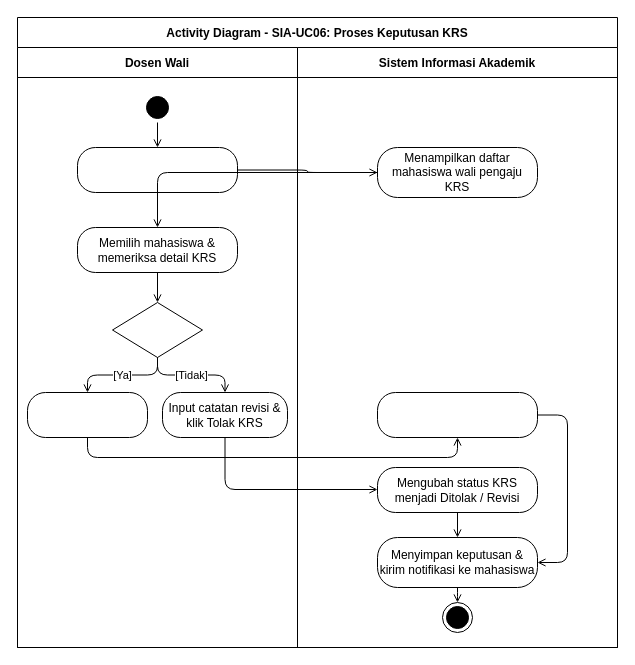
Image size: 635x665. Some labels were removed from this diagram. The shapes that lost their labels are listed below. From the top down, each one's box as (x1, y1, x2, y2) in pixels, then its label:
(76, 146, 238, 192): Membuka menu Perwalian / Keputusan KRS
(112, 302, 202, 358): KRS disetujui?
(26, 392, 148, 438): Klik Setujui KRS
(376, 392, 538, 438): Mengubah status KRS menjadi Disetujui
